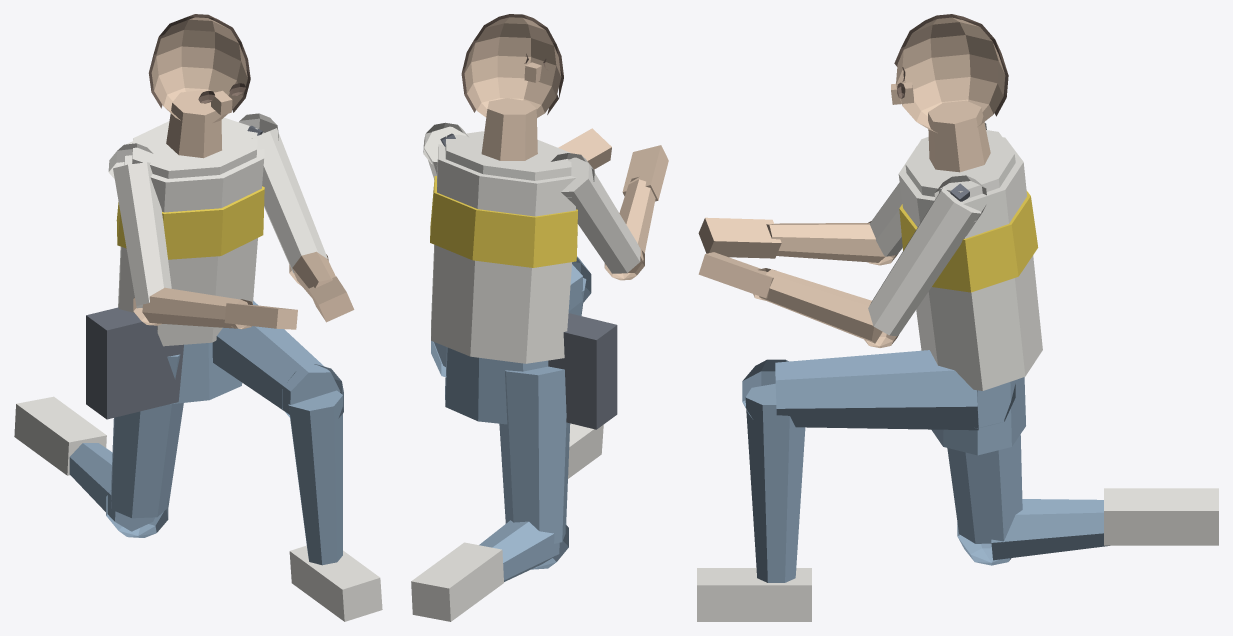
The model's file is low-poly-character-figures-medic-kneeling-7a34af41__36359.glb.
The picture shows the model from 3 angles, left to right: view 1: azimuth 30°, elevation 25°; view 2: azimuth 150°, elevation 25°; view 3: azimuth 270°, elevation 25°; orthographic projection. The views are drawn at different scales.
Visible parts, largest first — view 1: medic-kneeling; view 2: medic-kneeling; view 3: medic-kneeling.
Part boxes in pixels (bbox=[...]): medic-kneeling: bbox=[14, 14, 382, 621]; medic-kneeling: bbox=[411, 14, 668, 621]; medic-kneeling: bbox=[697, 14, 1218, 621].
Bounding box in the file's own units: 0.4922 × 1.27 × 1.05.
